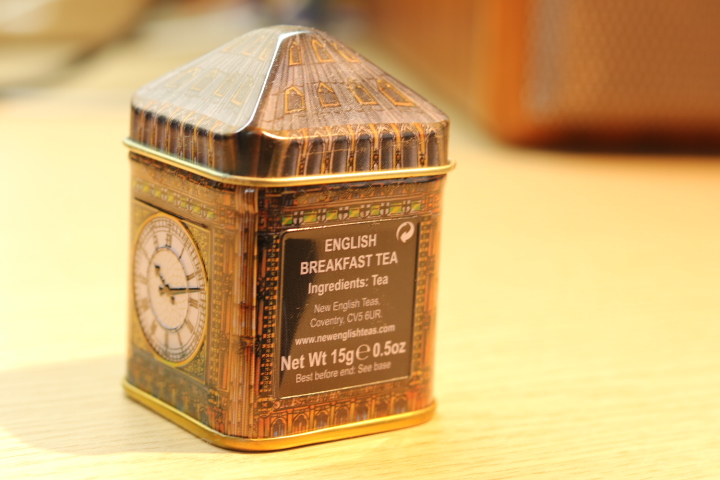Big Ben: (110, 15, 479, 464)
